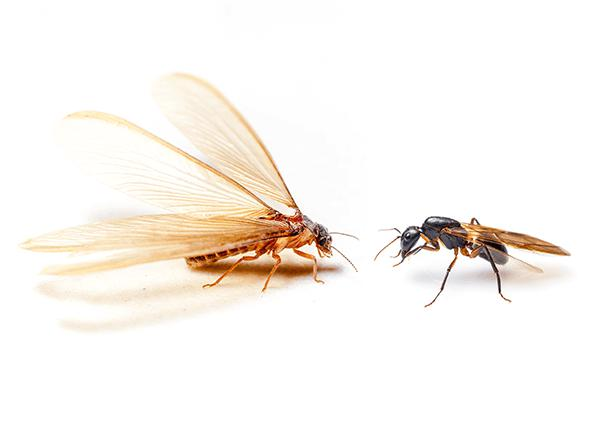flying termite: (14, 56, 370, 330)
